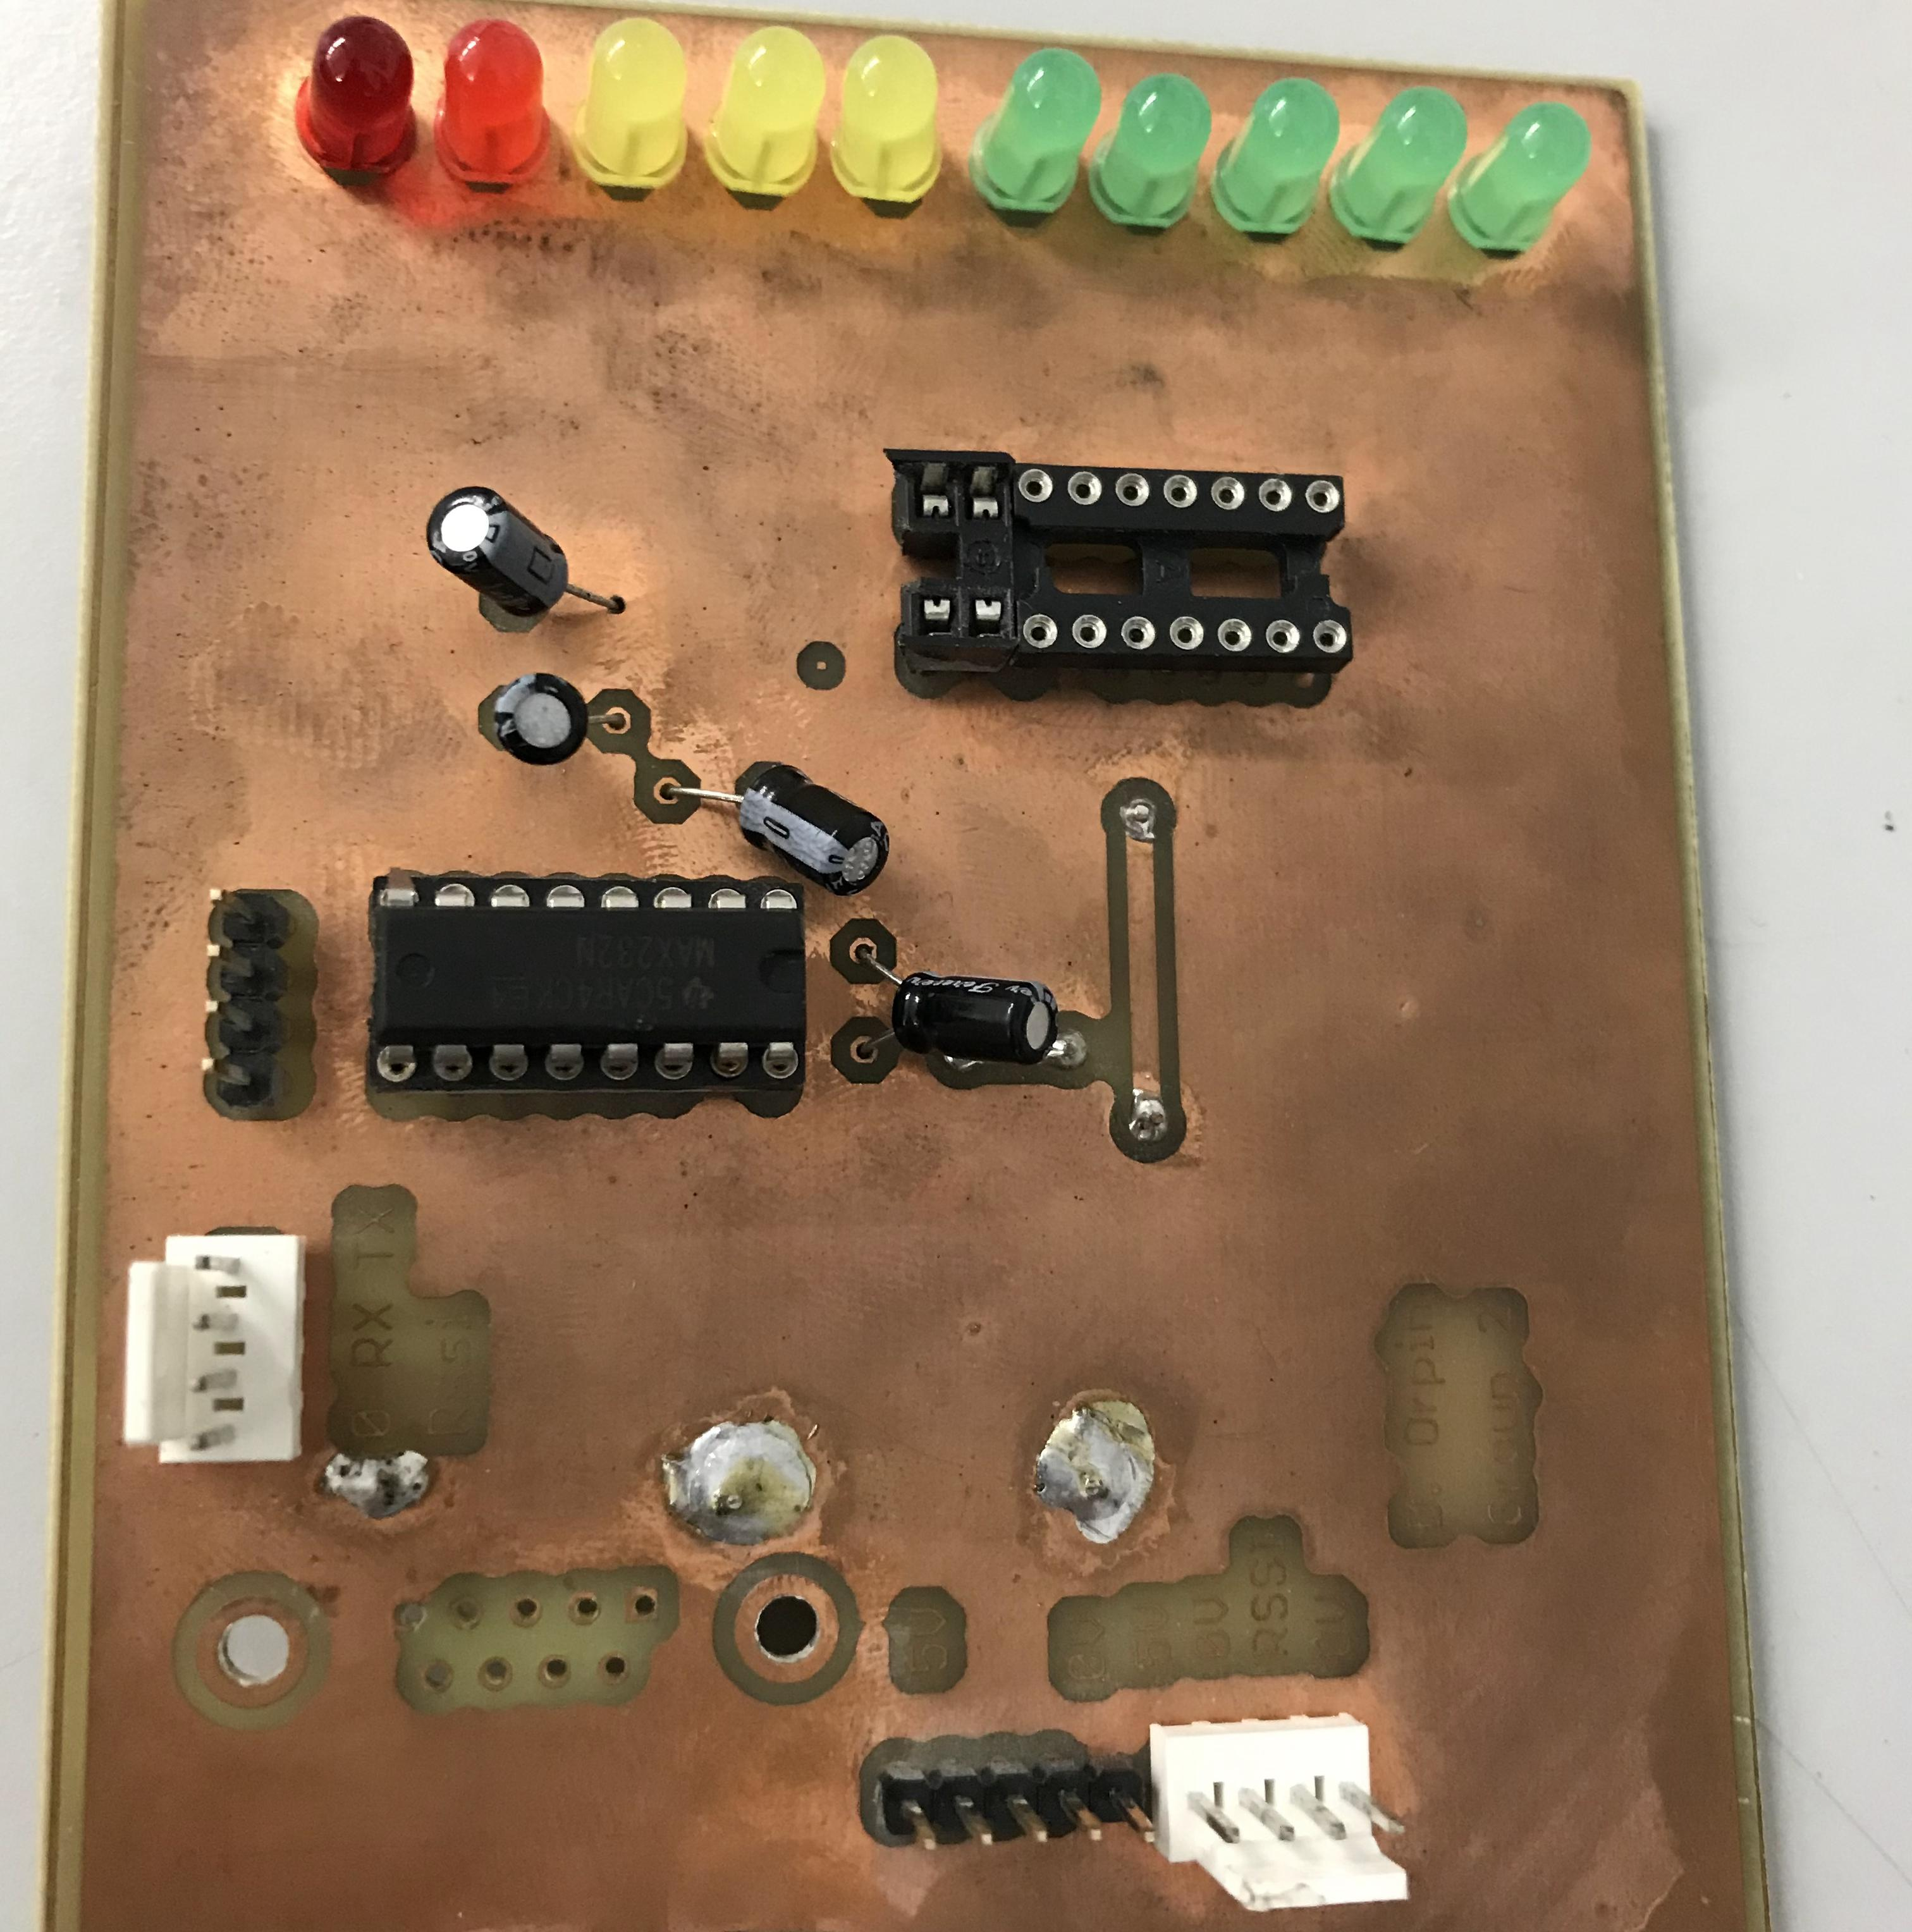Capacitor: (721, 759, 900, 896), (422, 481, 580, 621), (884, 957, 1066, 1073), (490, 667, 594, 770)
LED: (961, 40, 1107, 222), (1322, 82, 1471, 250), (292, 10, 425, 182), (700, 21, 826, 201), (828, 31, 954, 212), (1450, 101, 1593, 257), (1208, 75, 1343, 240), (432, 14, 559, 189), (1084, 66, 1213, 234), (574, 16, 697, 192)
